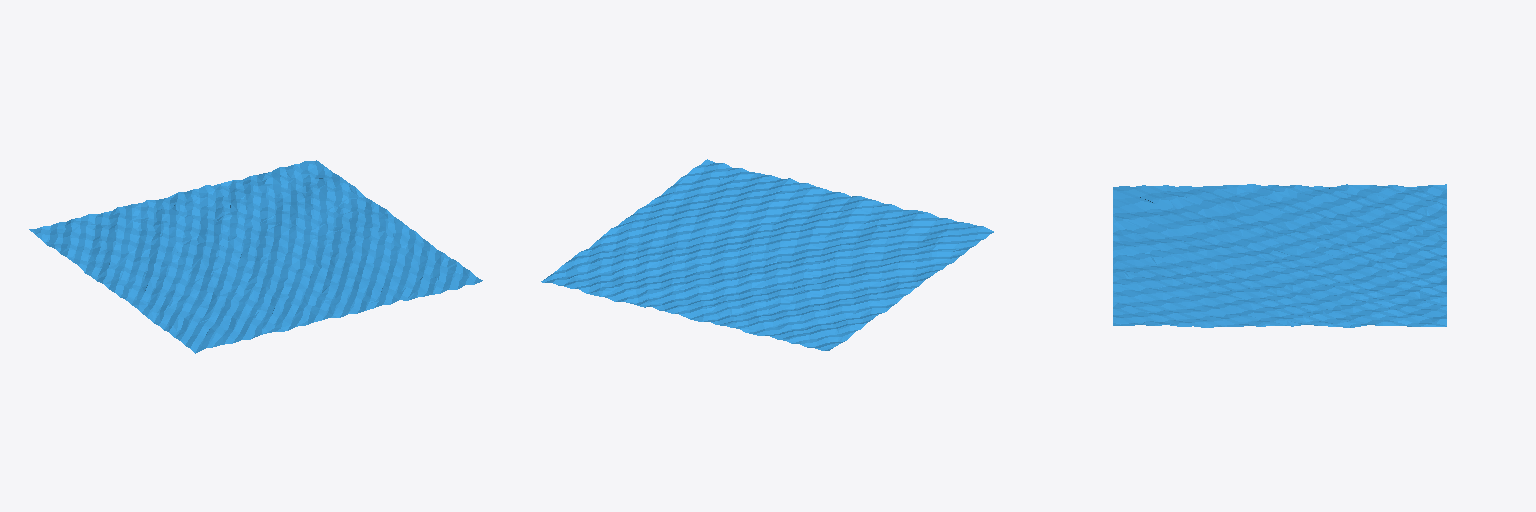
The model's file is Lake1.obj.
The picture shows the model from 3 angles: view 1: azimuth 30°, elevation 25°; view 2: azimuth 150°, elevation 25°; view 3: azimuth 270°, elevation 25°; orthographic projection.
Parts seen in each view (by area): view 1: Plane002; view 2: Plane002; view 3: Plane002.
Part boxes in pixels (x1,y1,x2,y2): Plane002: (29,160,482,353); Plane002: (541,159,993,350); Plane002: (1113,184,1446,327).
Bounding box in the file's own units: 260 × 3.66 × 260.